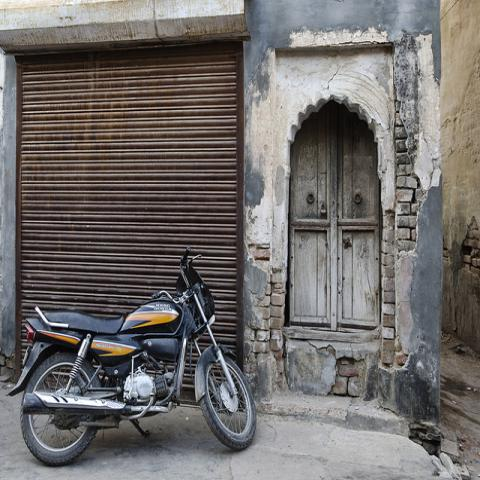motorcycle: (4, 244, 258, 466)
